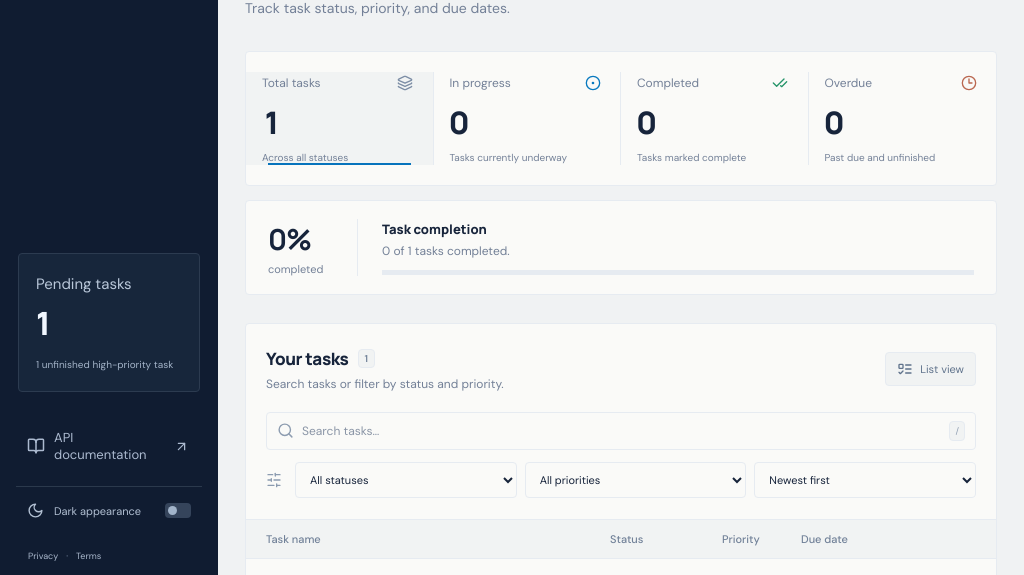
workspace journeys › searches descriptions, filters and clears no matches
In the search field labelled "Search tasks": (622, 431) [302,413,942,449], type "checklist"
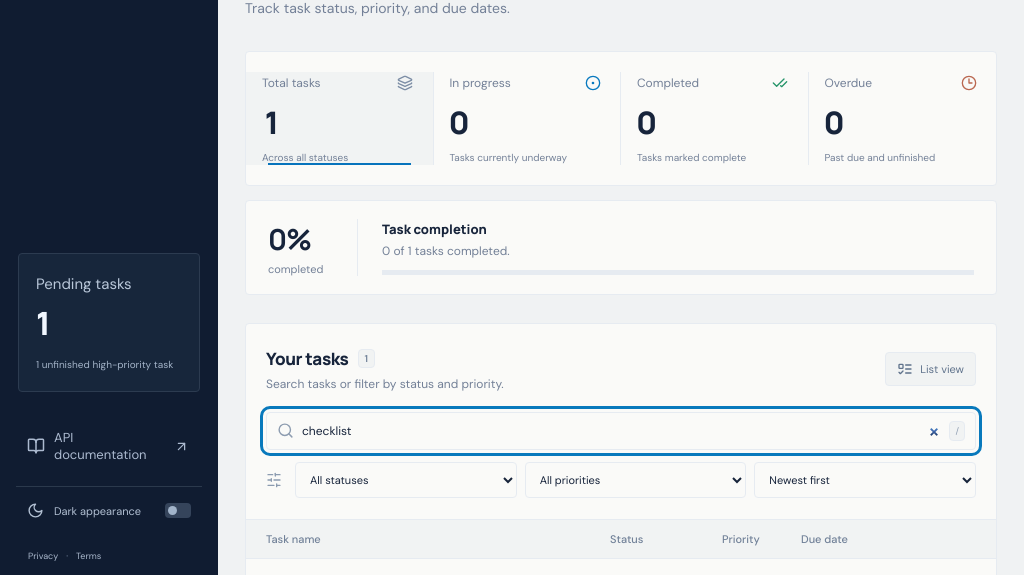
Select "Completed" in the dropdown named "Status filter": (406, 480) [295,462,517,498]
(page scrolled)
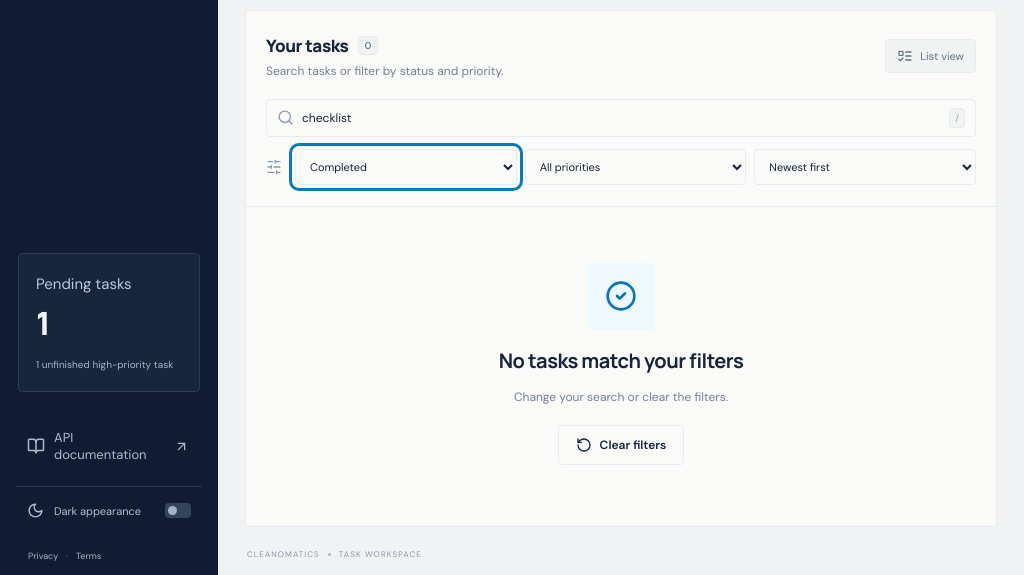
expect the heading "No tasks match your filters" is shown: met, box [499,347,743,374]
Click the button "Clear filters": click(621, 445) [558,425,684,465]
(page scrolled)
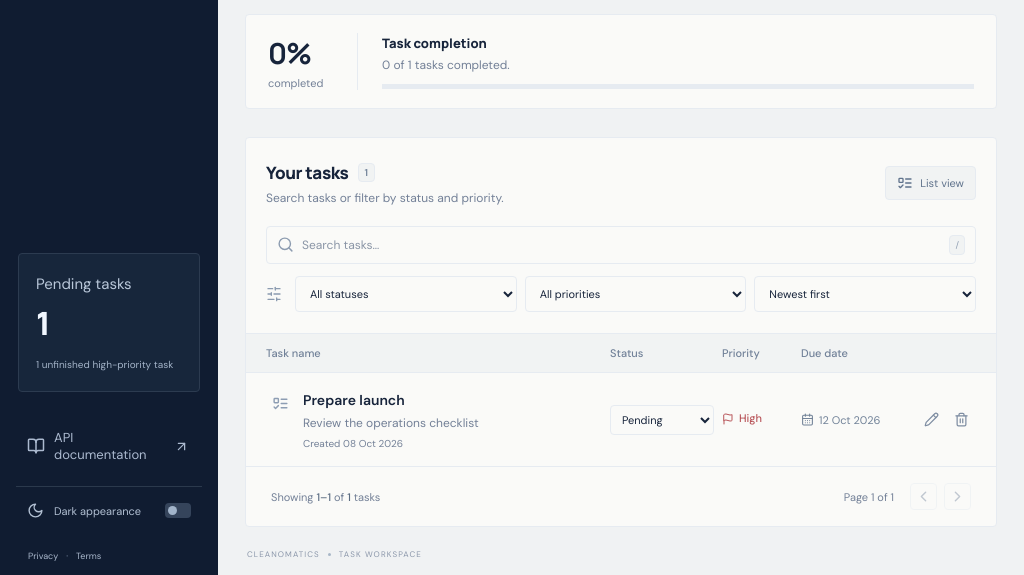
expect the button with aria-label "View task Prepare launch" is shown: met, box [303,389,426,411]
